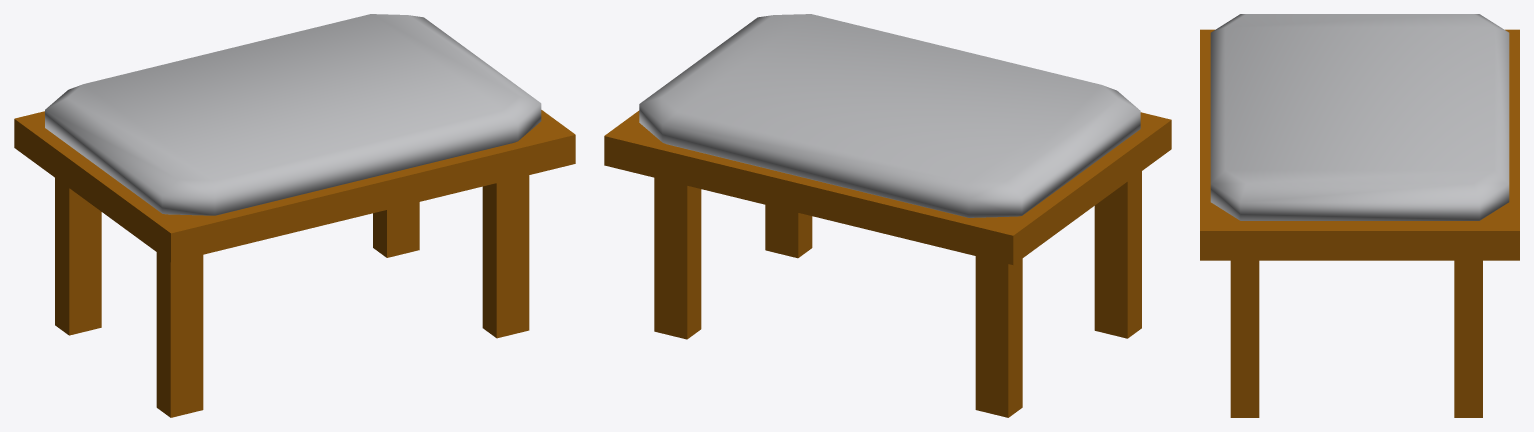
File: stool_white.glb
The picture shows the model from 3 angles, left to right: view 1: azimuth 30°, elevation 25°; view 2: azimuth 150°, elevation 25°; view 3: azimuth 270°, elevation 25°; orthographic projection.
Parts seen in each view (by area): view 1: cushion%, block (×5); view 2: cushion%, block (×5); view 3: cushion%, block (×3).
Part boxes in pixels (<box>): cushion%: <box>45,14,541,215</box>; block (×5): <box>14,110,575,417</box>; cushion%: <box>639,14,1140,217</box>; block (×5): <box>604,110,1171,417</box>; cushion%: <box>1210,14,1509,220</box>; block (×3): <box>1200,29,1519,417</box>.
Bounding box in the file's own units: 1.49 × 0.8048 × 1.
